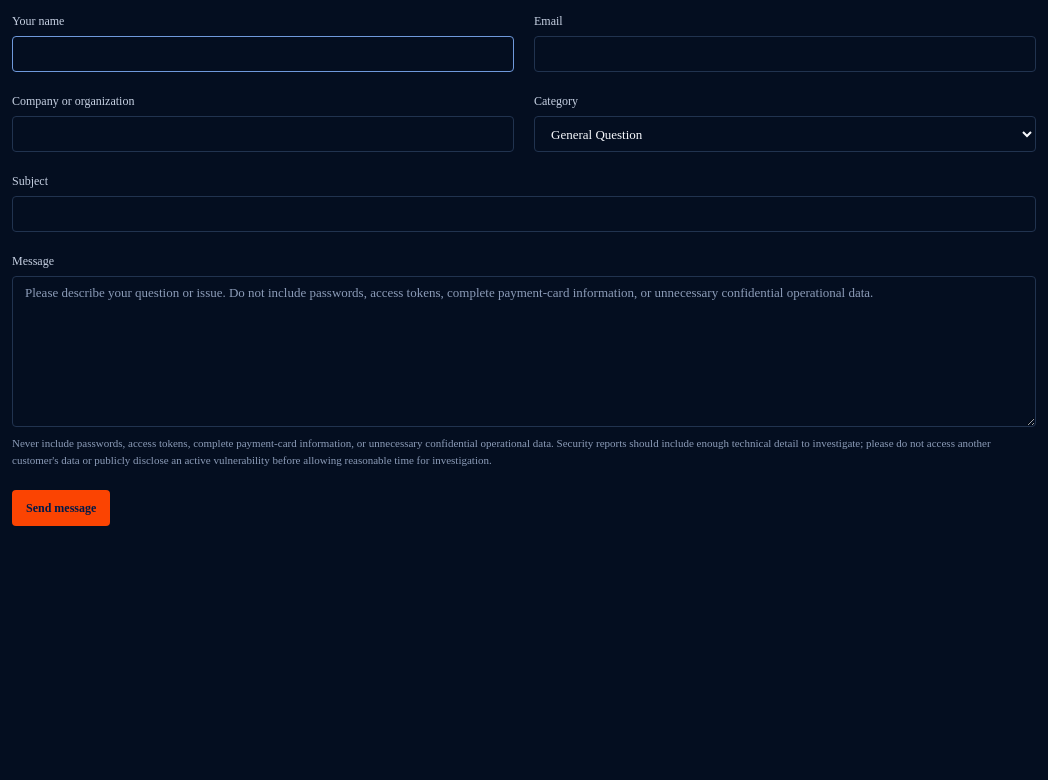
Scenario: the contact form › validates before sending anything
Click the button "Send message" at (61, 508), box [12,490,110,526]
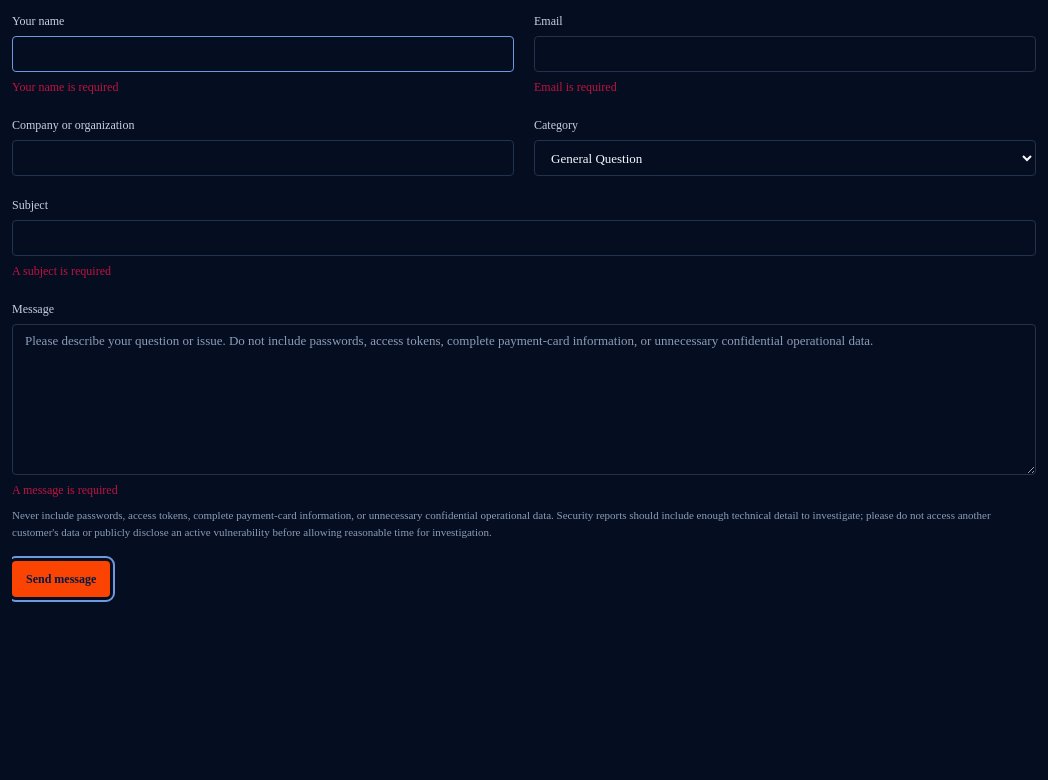
Now the text "Your name is required" is shown, box [12,80,118,94]
Now the text "Email is required" is shown, box [534,80,617,94]
